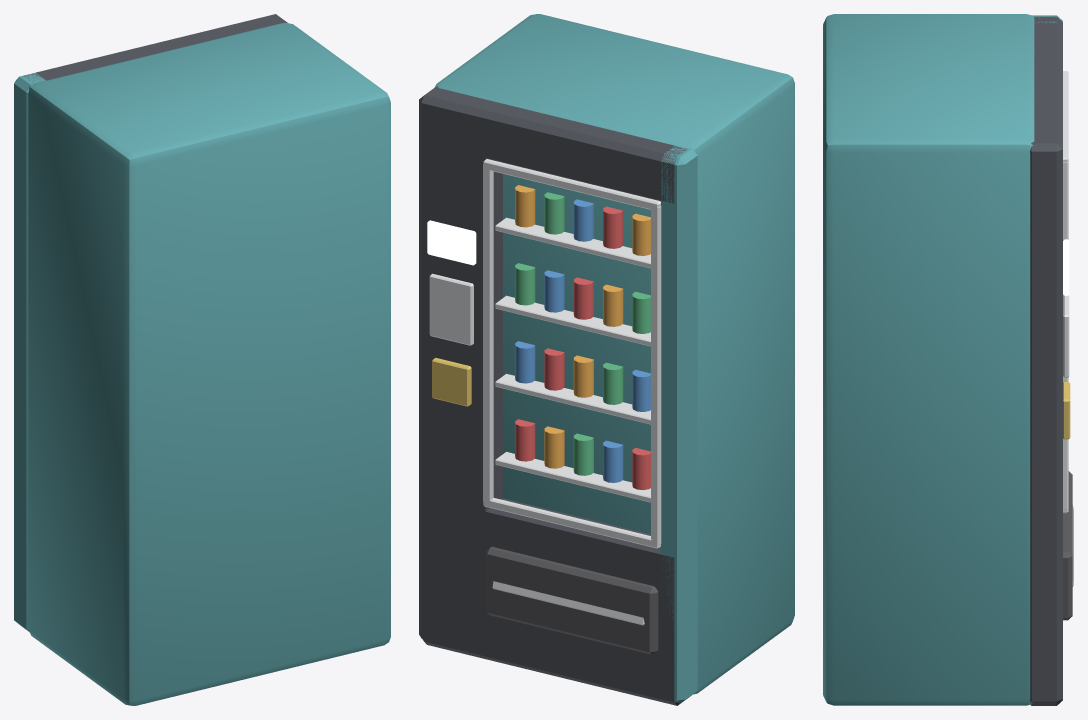
The model's file is Town_VendingMachine.fbx.
3 views of the same model, side by side, from view 1: azimuth 30°, elevation 25°; view 2: azimuth 150°, elevation 25°; view 3: azimuth 270°, elevation 25° (orthographic). The views are drawn at different scales.
Visible parts, largest first — view 1: Town_VendingMachine; view 2: Town_VendingMachine; view 3: Town_VendingMachine.
Part boxes in pixels (x1,y1,x2,y2): Town_VendingMachine: (14,14,390,705); Town_VendingMachine: (419,14,794,705); Town_VendingMachine: (823,14,1073,705).
Size of the model in its own units: 1 by 1.98 by 0.7941.
